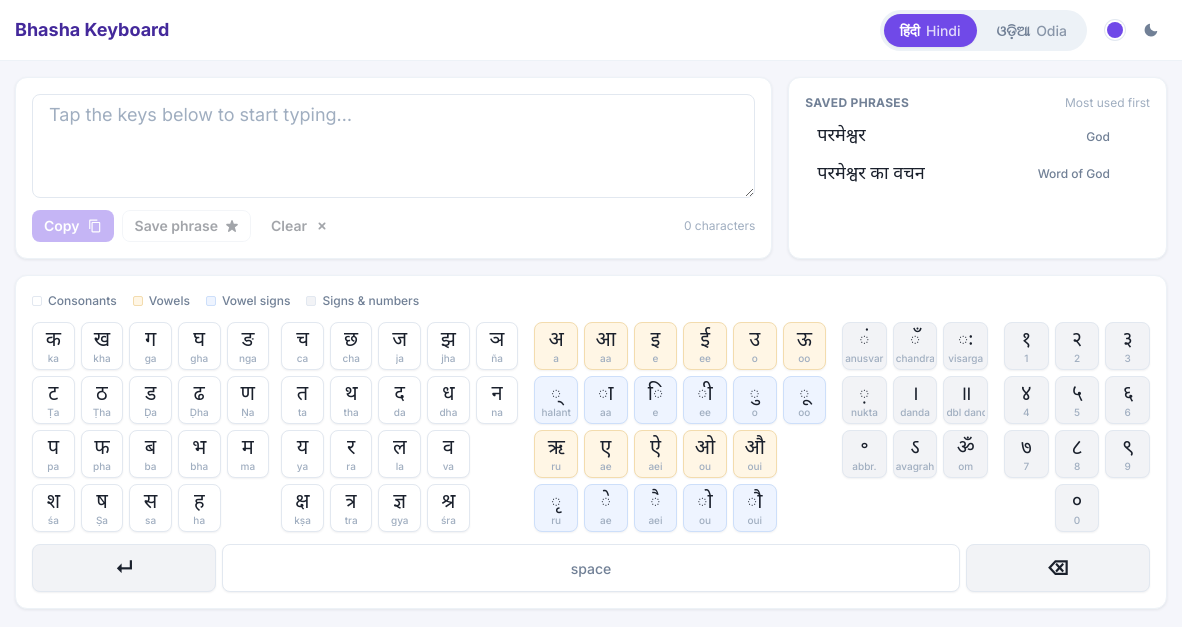
Test case: tapping a saved phrase inserts it
Click the button "परमेश्वर का वचन Word of God".
click(871, 174)  # box [805,158,1122,191]
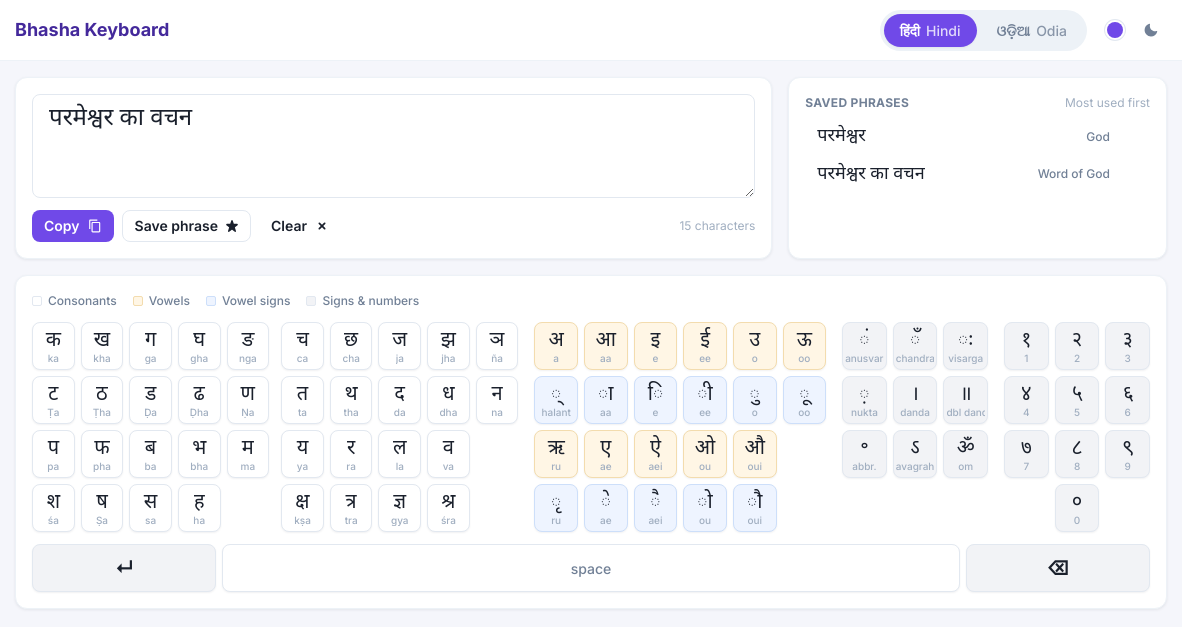
expect the text box named "Hindi text" holds "परमेश्वर का वचन": met, box [32,94,755,198]
